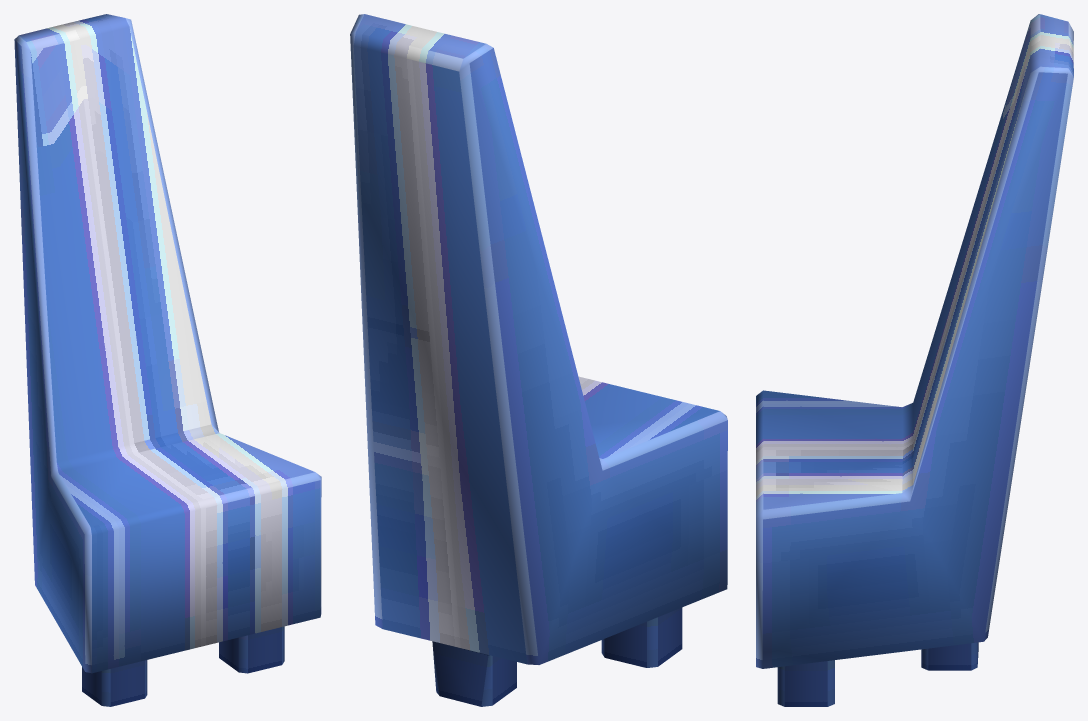
The model's file is rmk_str_chairS.dae.
The picture shows the model from 3 angles, left to right: view 1: azimuth 30°, elevation 25°; view 2: azimuth 150°, elevation 25°; view 3: azimuth 270°, elevation 25°; orthographic projection. The views are drawn at different scales.
Visible parts, largest first — view 1: rmk_str_chairS; view 2: rmk_str_chairS; view 3: rmk_str_chairS.
Part boxes in pixels (left/top/right/bottom): rmk_str_chairS: left=14, top=14, right=321, bottom=706; rmk_str_chairS: left=350, top=14, right=727, bottom=706; rmk_str_chairS: left=756, top=14, right=1073, bottom=706.
Size of the model in its own units: 20.73 by 47.48 by 22.14.
1 material, 1 textured.
